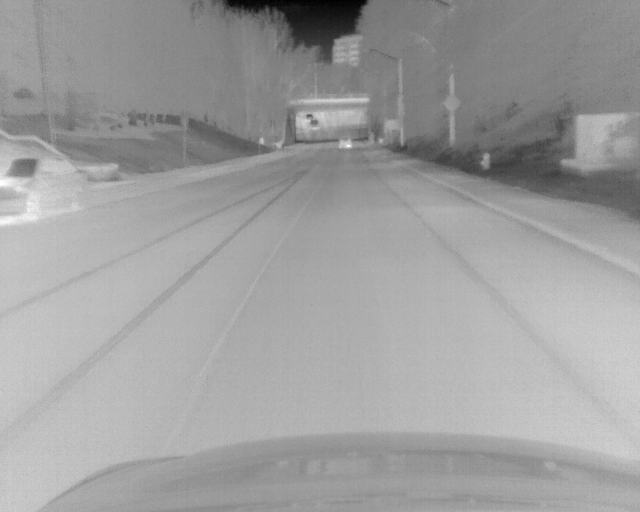car: (1, 154, 86, 221), (338, 134, 351, 148)
